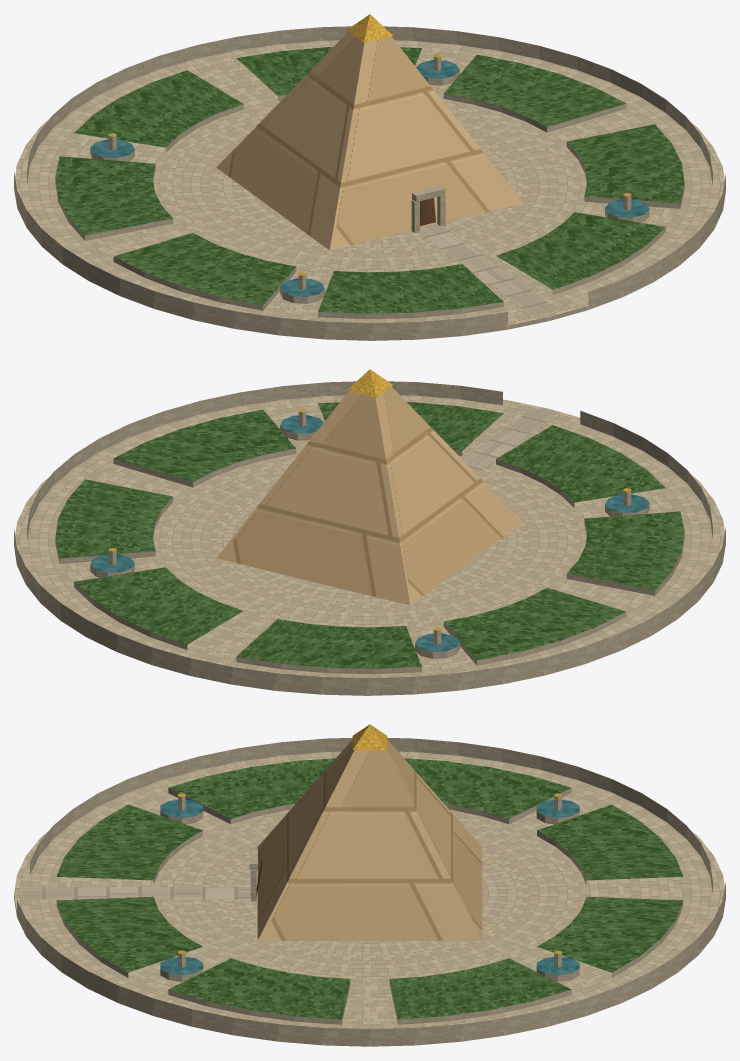
File: pyramid_small_lod0.glb
3 views of the same model, one above another, from view 1: azimuth 30°, elevation 25°; view 2: azimuth 150°, elevation 25°; view 3: azimuth 270°, elevation 25° (orthographic).
Visible parts, largest first — view 1: pyramid_small_lod0; view 2: pyramid_small_lod0; view 3: pyramid_small_lod0.
Boxes of the visible parts, box(x1,y1,x2,y2) form: pyramid_small_lod0: box(14, 14, 725, 340); pyramid_small_lod0: box(14, 369, 725, 695); pyramid_small_lod0: box(14, 724, 725, 1046).
Bounding box in the file's own units: 1.88 × 0.512 × 1.9.
1 material, 1 textured.
